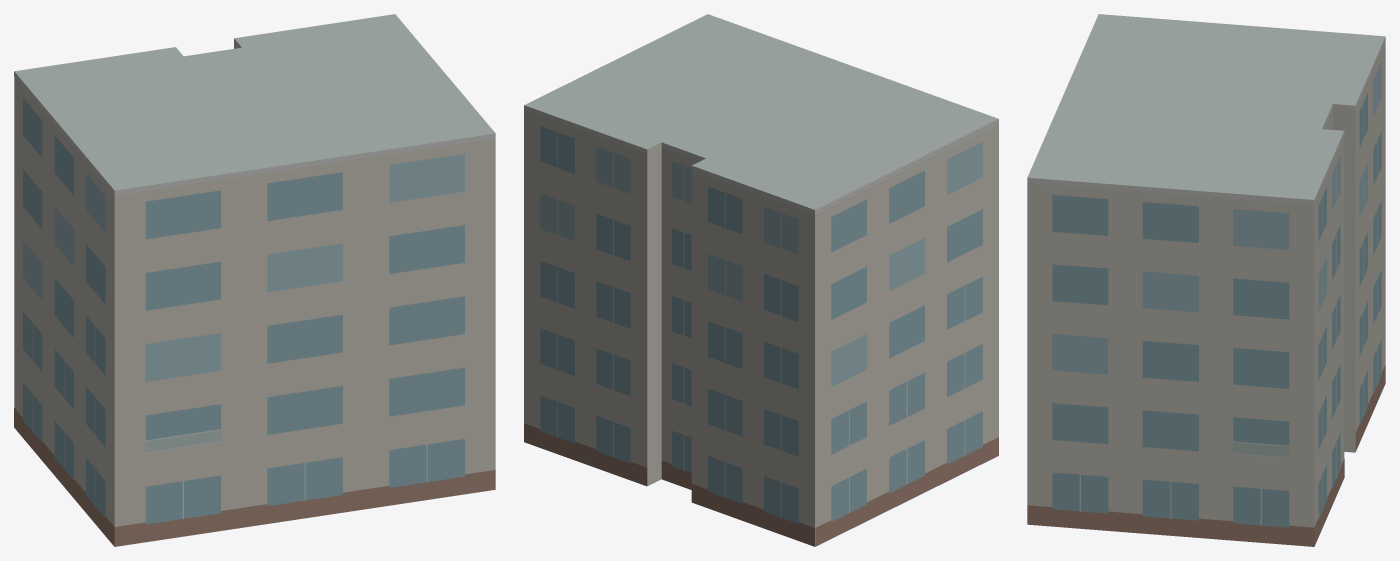
The model's file is survey-upis-32753261.glb.
3 views of the same model, side by side, from view 1: azimuth 30°, elevation 25°; view 2: azimuth 150°, elevation 25°; view 3: azimuth 270°, elevation 25° (orthographic). The views are drawn at different scales.
Parts seen in each view (by area): view 1: survey-upis-32753261.tmp; view 2: survey-upis-32753261.tmp; view 3: survey-upis-32753261.tmp.
Boxes of the visible parts, x1,y1,x2,y2 form: survey-upis-32753261.tmp: (14,14,495,546); survey-upis-32753261.tmp: (524,14,998,546); survey-upis-32753261.tmp: (1027,14,1385,546).
Bounding box in the file's own units: 19.55 × 17 × 15.92.
